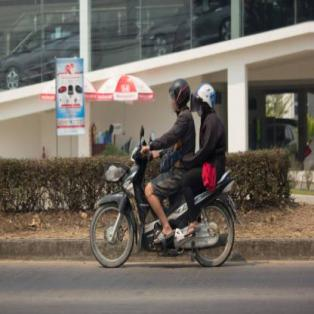Motocicleta: (86, 130, 240, 276)
